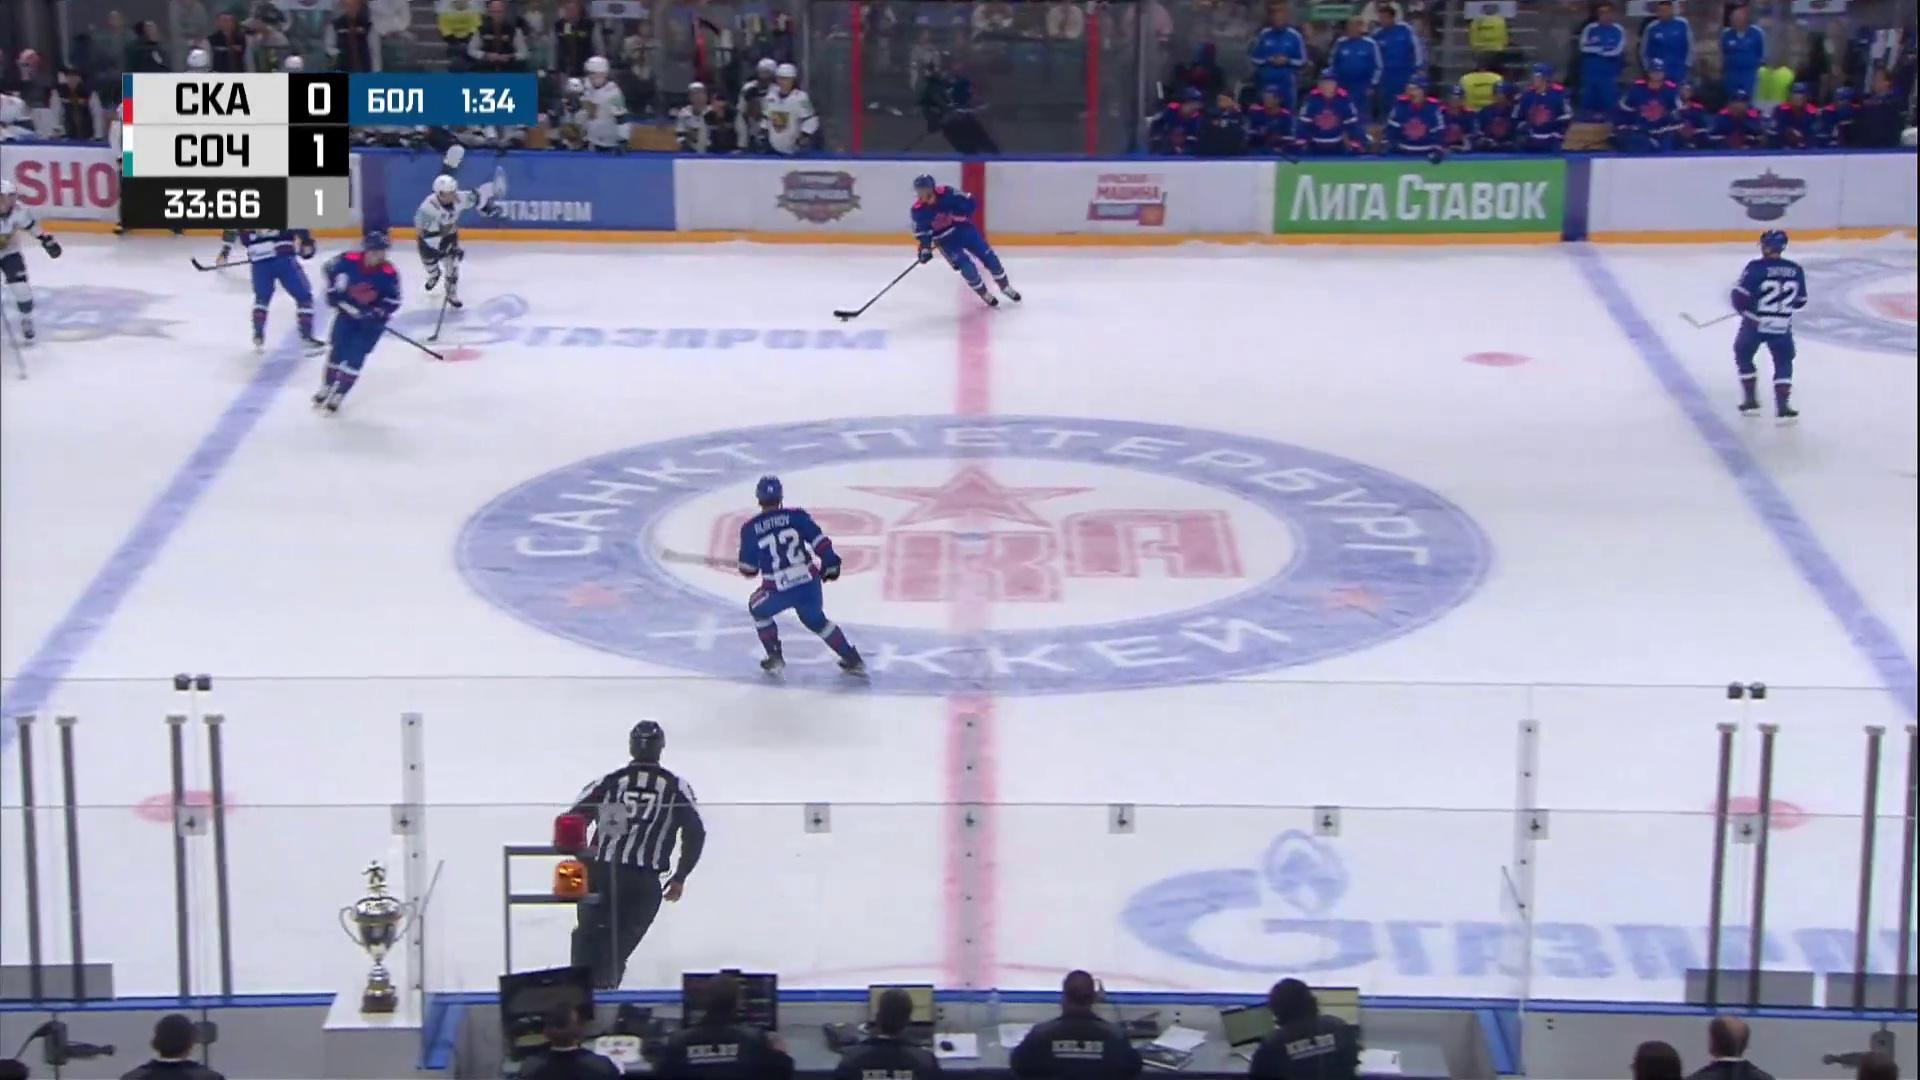ball: (840, 316, 849, 322)
